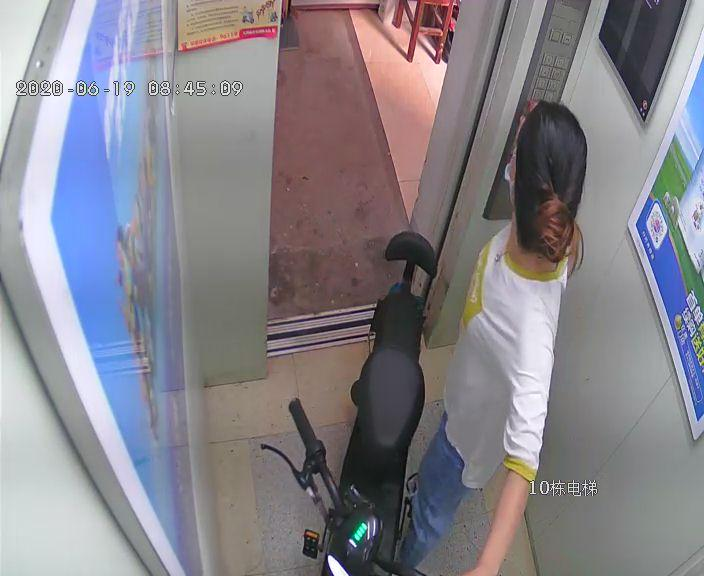Electric-bicycle: (260, 233, 438, 574)
